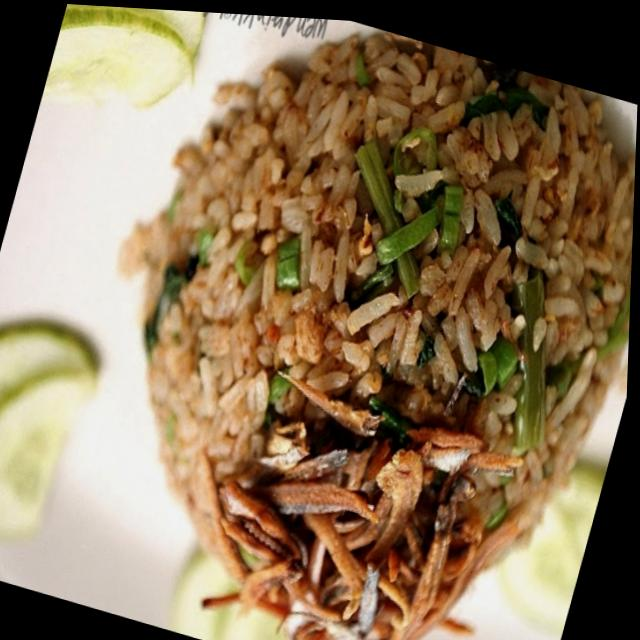米饭主食: (2, 1, 640, 640)
